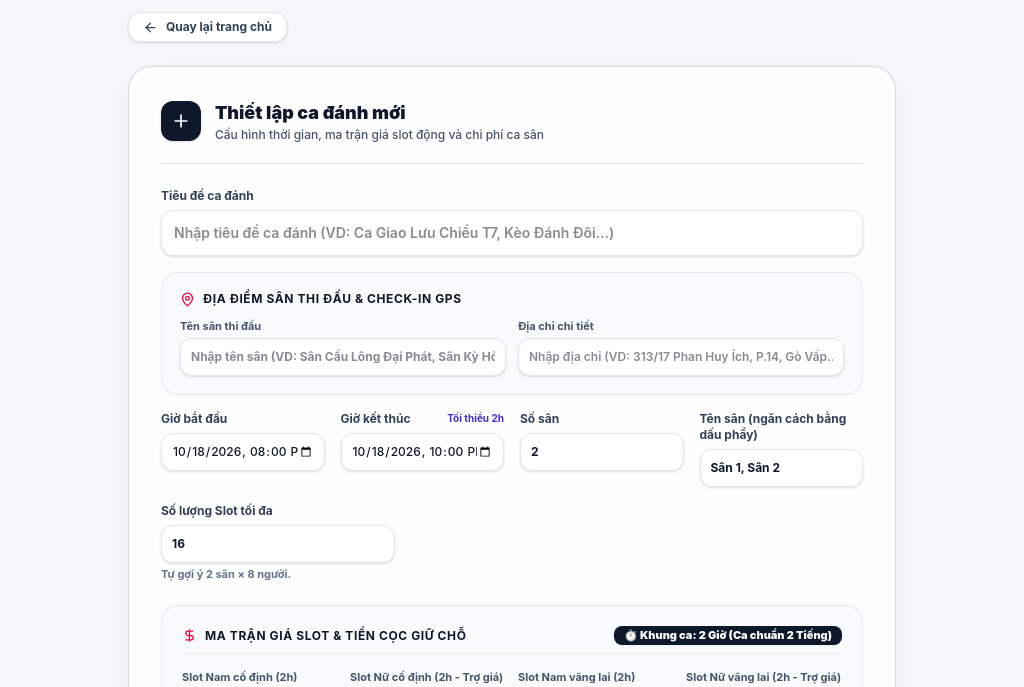
Test: CreateSessionView - số sân, tên sân, số slot › tên sân và slot gợi ý theo số sân cho tới khi Host tự sửa
Expected: the field labelled "Tên sân (ngăn cách bằng dấu phẩy)" holds "Sân 1, Sân 2", top-left (700, 449), bottom-right (863, 487)
Expected: the field labelled "Số lượng Slot tối đa" holds "16", top-left (161, 525), bottom-right (395, 563)
Replace the text in the field labelled "Số sân" with "3" at x=602, y=452, box top-left (520, 433), bottom-right (684, 471)
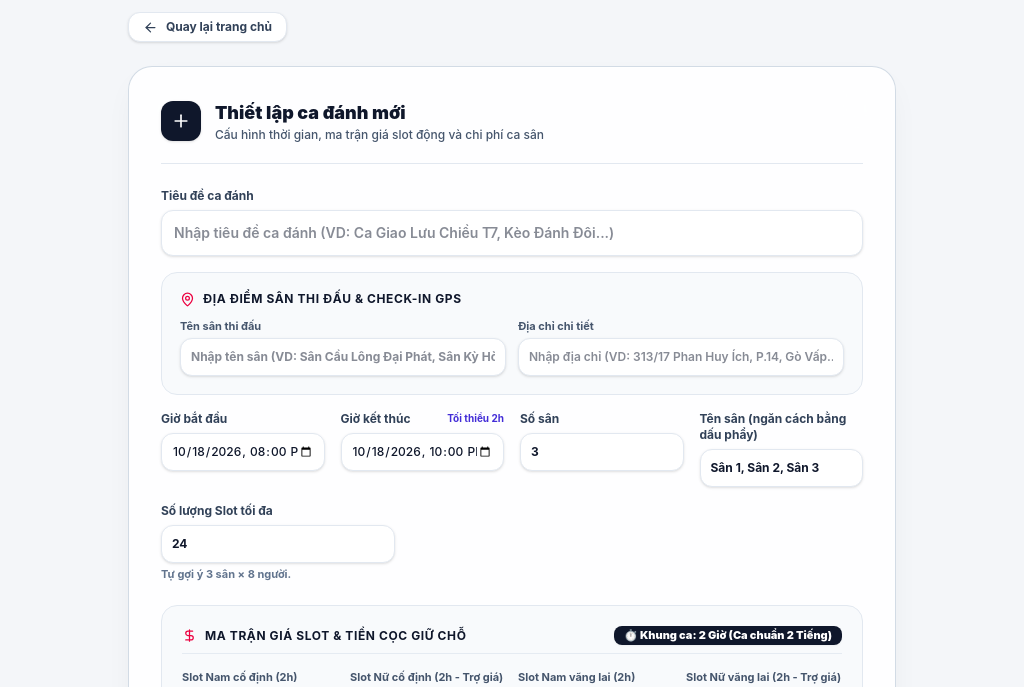
Now the field labelled "Tên sân (ngăn cách bằng dấu phẩy)" holds "Sân 1, Sân 2, Sân 3"
Now the field labelled "Số lượng Slot tối đa" holds "24", box top-left (161, 525), bottom-right (395, 563)
# Host tự sửa tên → đổi số sân không ghi đè nữa
Replace the text in the field labelled "Tên sân (ngăn cách bằng dấu phẩy)" with "Sân A, Sân B, Sân C" at x=781, y=468, box top-left (700, 449), bottom-right (863, 487)
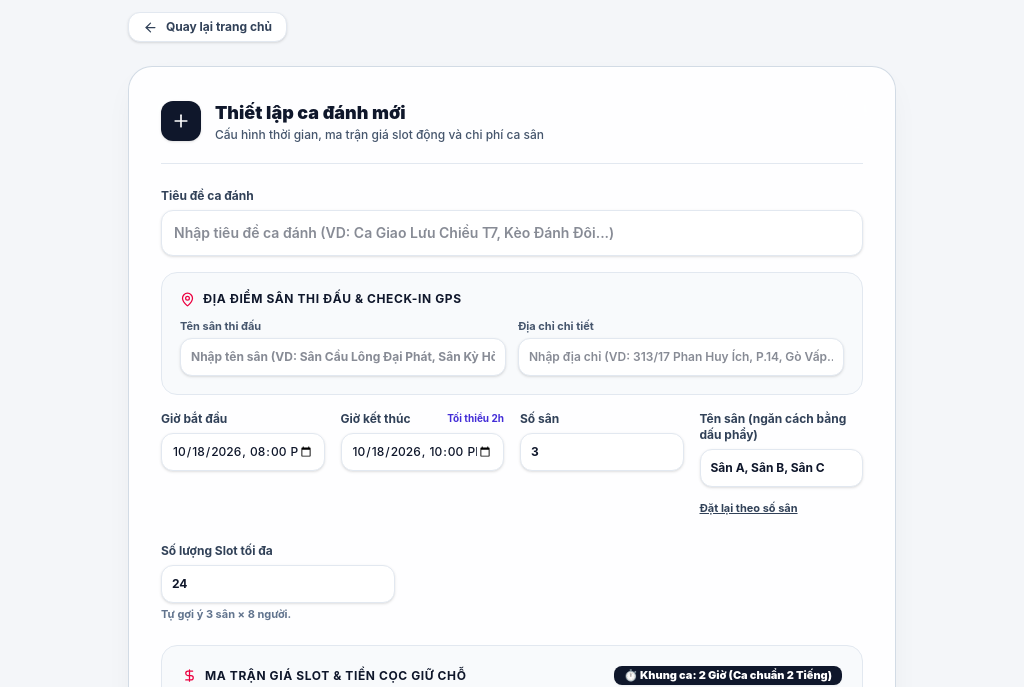
Replace the text in the field labelled "Số sân" with "4" at x=602, y=452, box top-left (520, 433), bottom-right (684, 471)
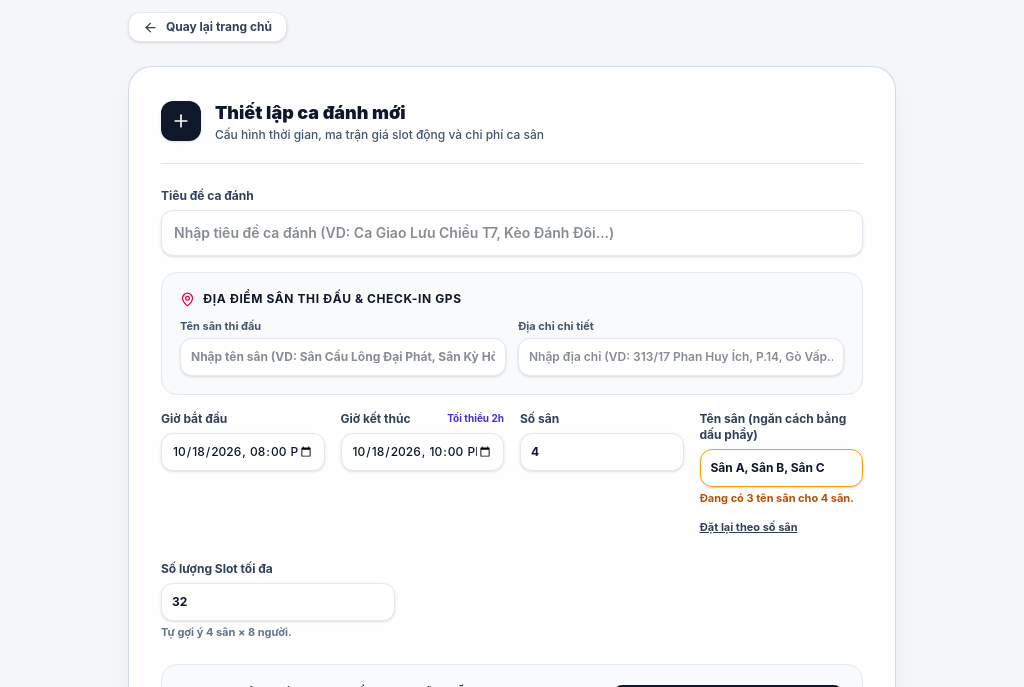
Now the text "Đang có 3 tên sân cho 4 sân." is shown, box top-left (700, 491), bottom-right (863, 505)
# Host tự sửa slot → không tự gợi ý nữa
Replace the text in the field labelled "Số lượng Slot tối đa" with "20" at x=278, y=602, box top-left (161, 583), bottom-right (395, 621)
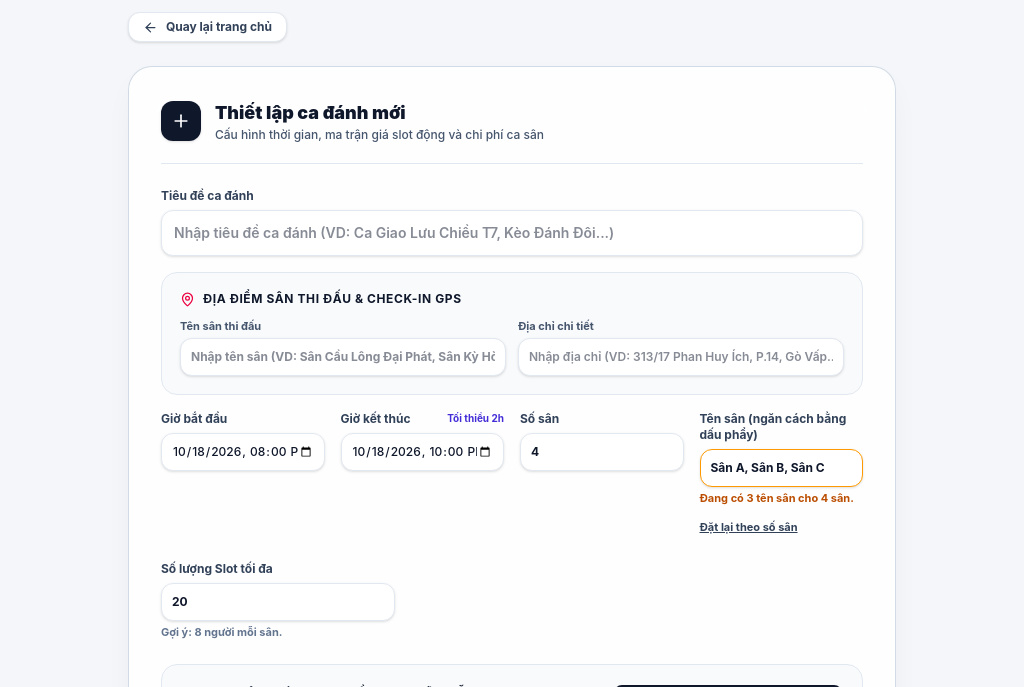
Replace the text in the field labelled "Số sân" with "2" at x=602, y=452, box top-left (520, 433), bottom-right (684, 471)
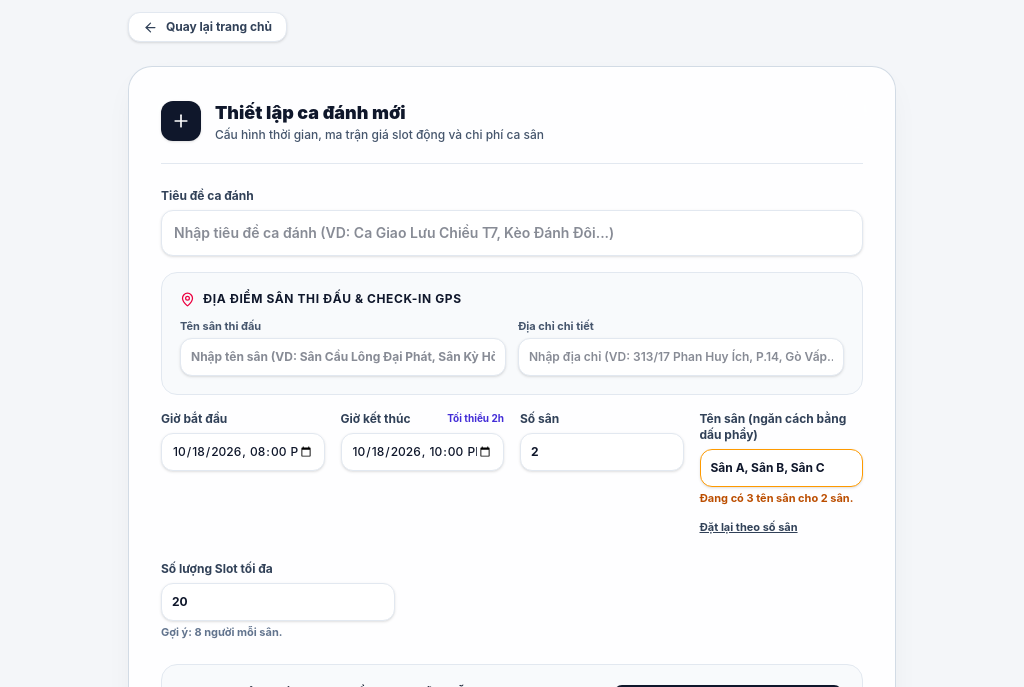
# Đặt lại theo số sân
Click the button "Đặt lại theo số sân" at x=748, y=527, box top-left (700, 509), bottom-right (798, 545)
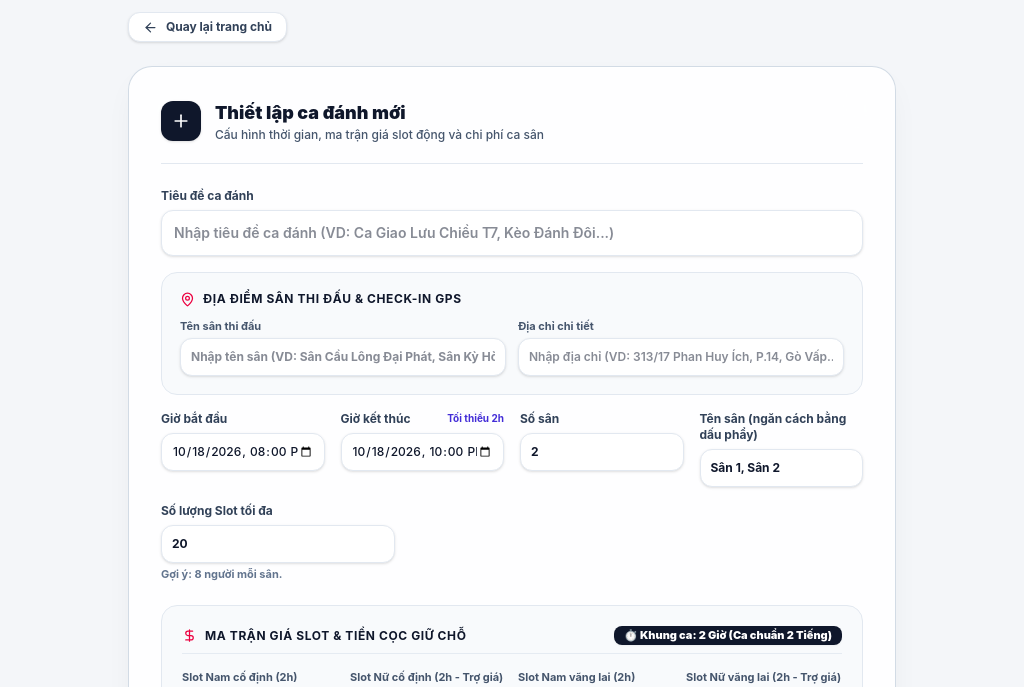
Now the field labelled "Tên sân (ngăn cách bằng dấu phẩy)" holds "Sân 1, Sân 2", box top-left (700, 449), bottom-right (863, 487)
